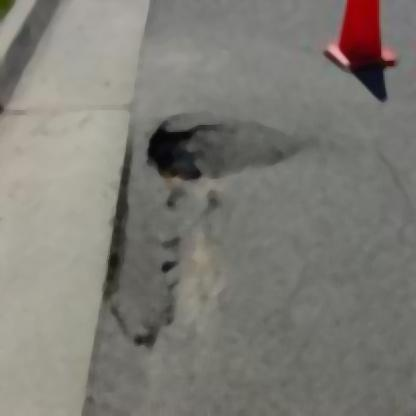Potholes: (150, 112, 288, 186)
